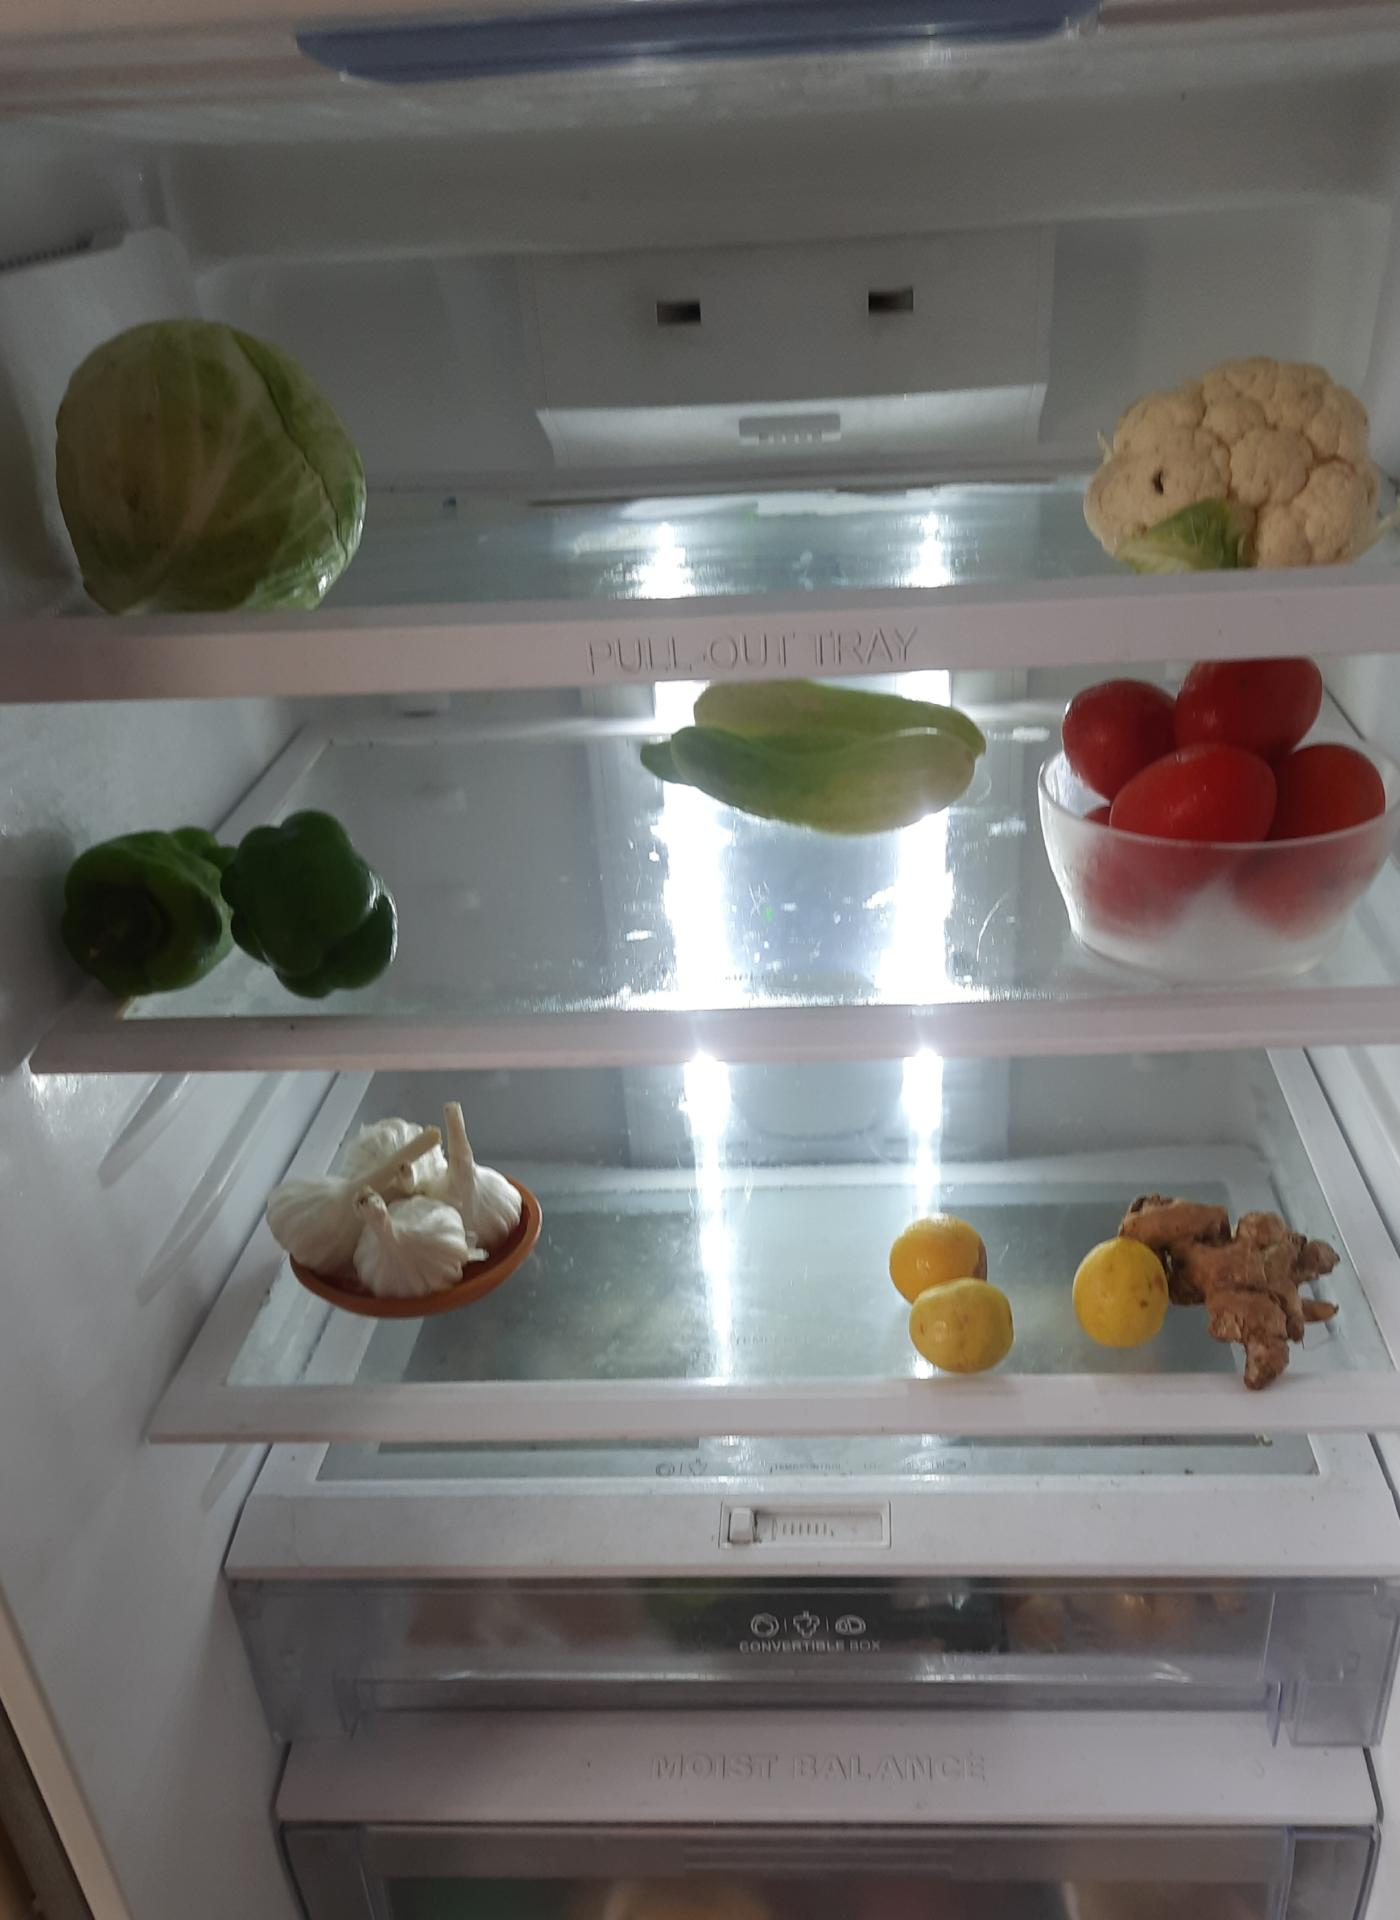cabbage: (48, 310, 370, 610)
capsicum: (49, 800, 406, 1000)
cauliflower: (1088, 349, 1390, 565)
cucumber: (641, 666, 983, 824)
garlic: (273, 1100, 528, 1304)
ginger: (1135, 1188, 1331, 1389)
lemon: (893, 1216, 1021, 1374), (1069, 1237, 1172, 1352)
tomato: (1060, 654, 1391, 935)
